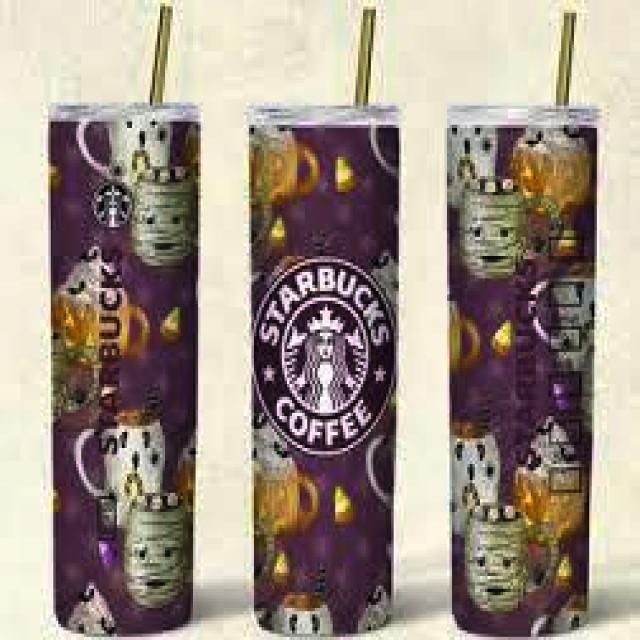bottle: (245, 3, 408, 640), (46, 6, 203, 640), (443, 16, 598, 640)
